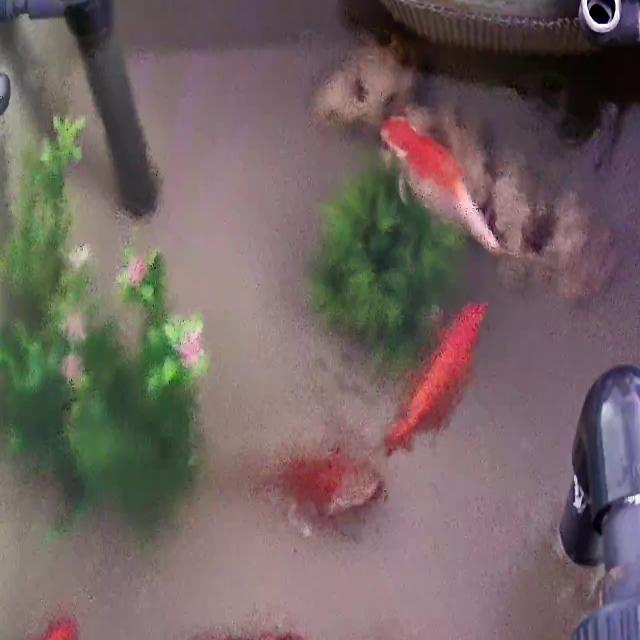fish: (379, 111, 519, 267), (372, 305, 503, 451), (257, 453, 400, 535), (201, 616, 334, 640)
